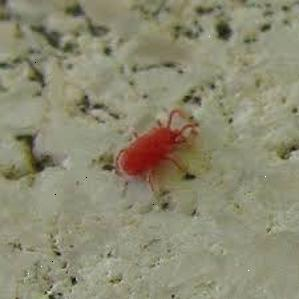spider mite: (88, 82, 209, 212)
